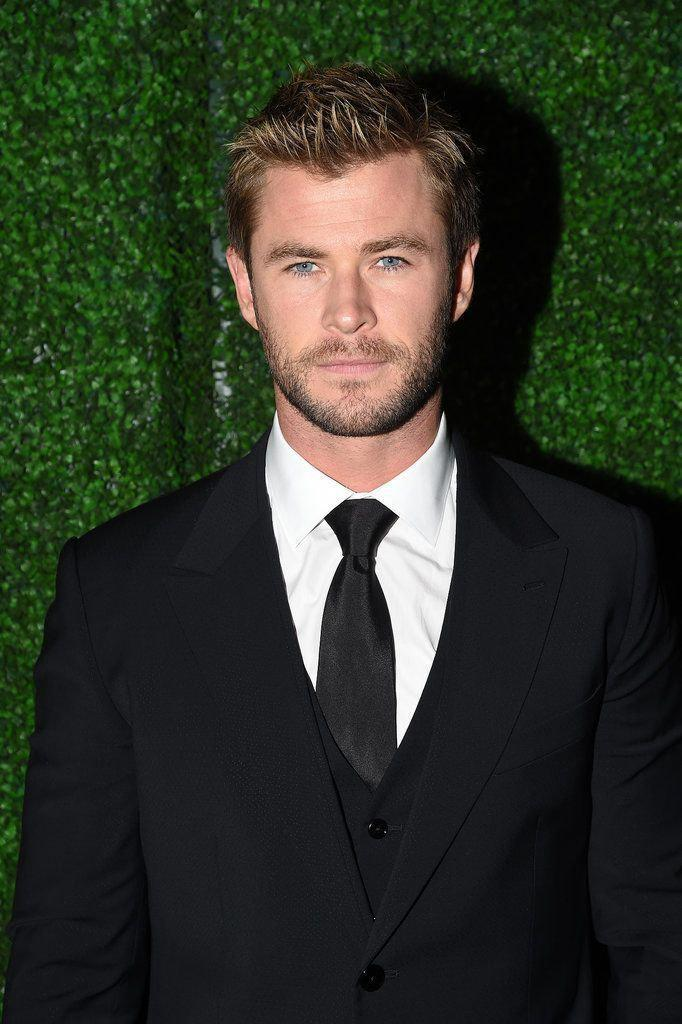Sober: (245, 160, 445, 419)
